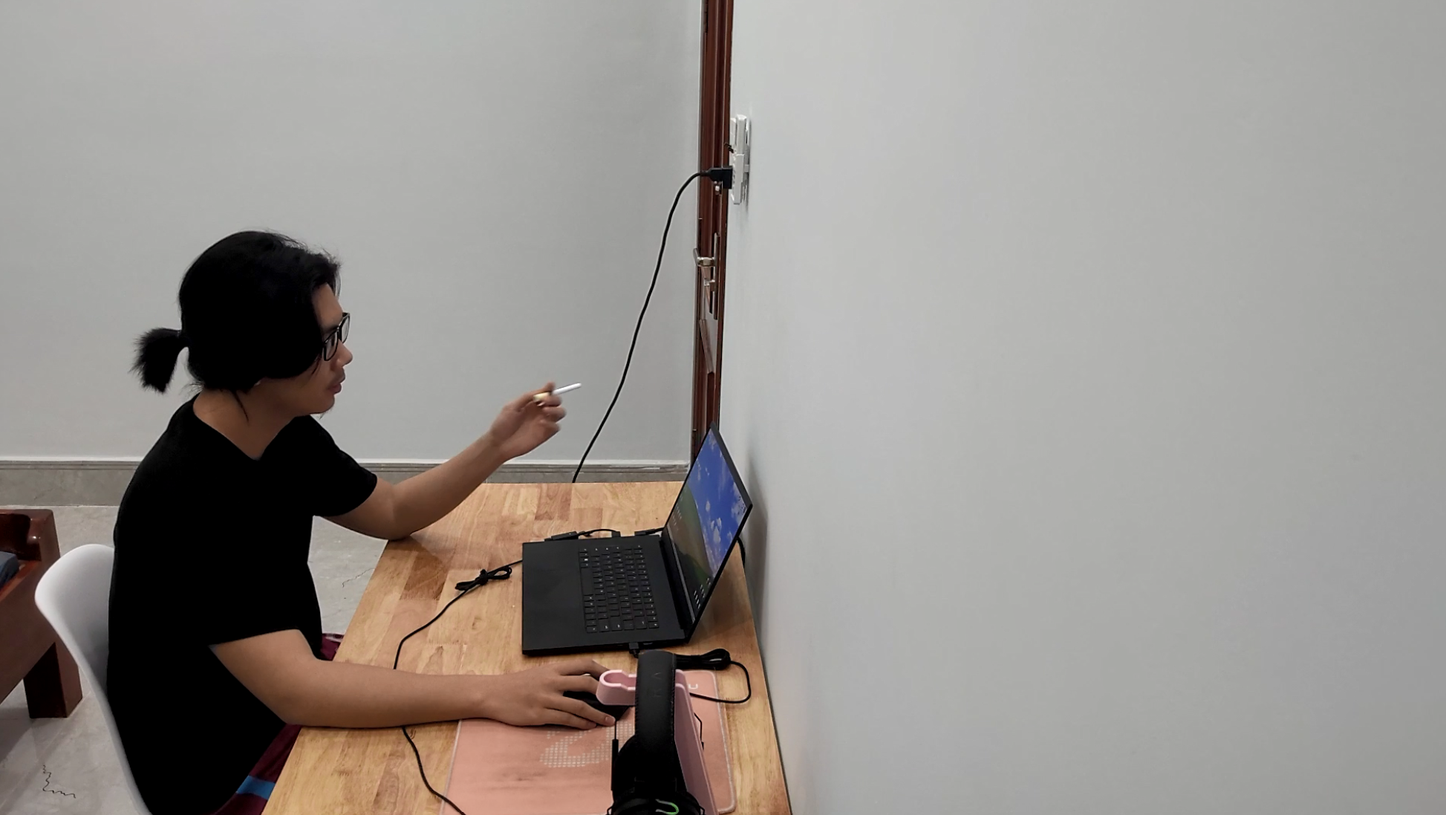cigarette: (535, 377, 587, 401)
person: (90, 204, 456, 815)
